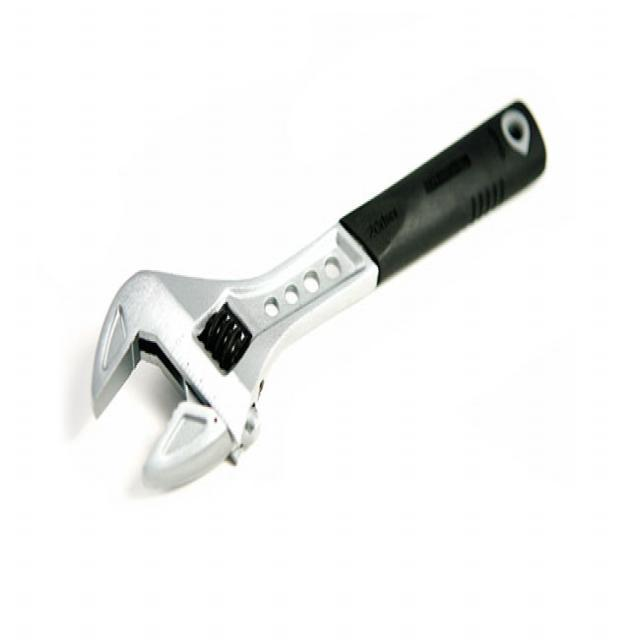wrench: (86, 91, 551, 503)
